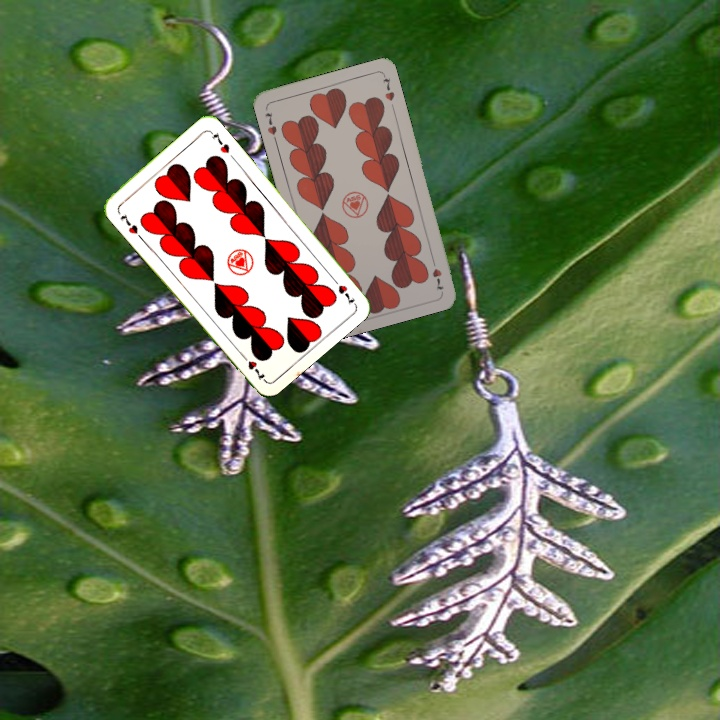H7: (328, 273, 357, 308), (428, 254, 446, 294), (261, 108, 280, 144), (116, 210, 140, 237)
